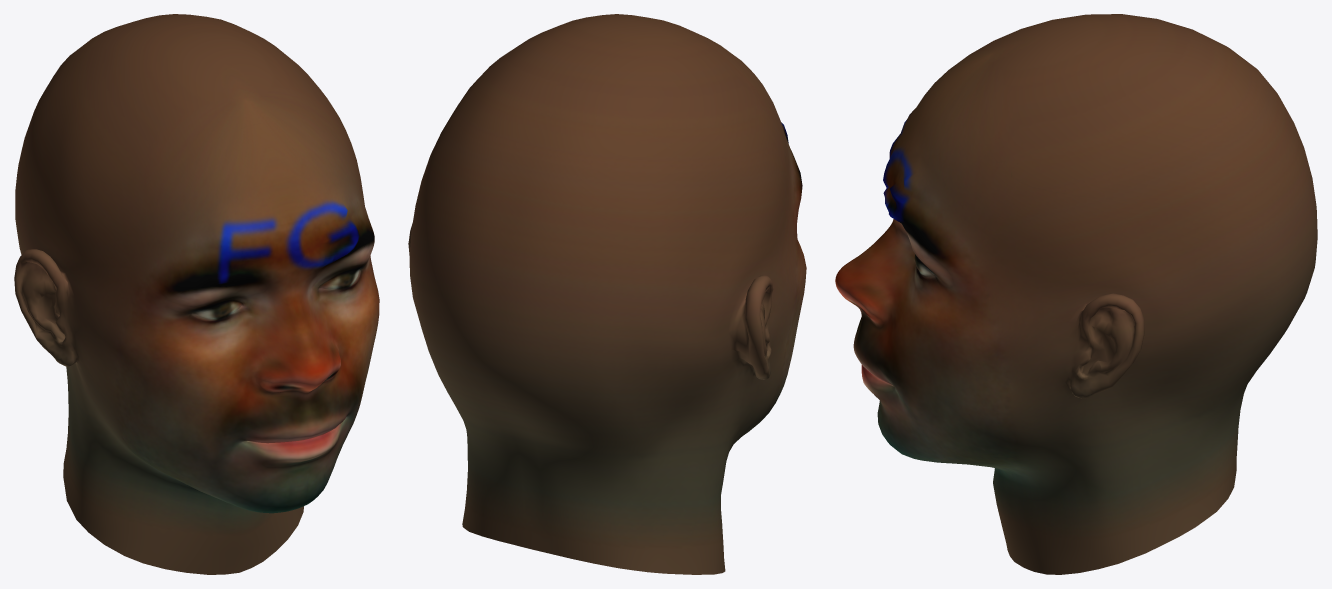
The model's file is avg_anyrace_male_16.obj.
The picture shows the model from 3 angles, left to right: view 1: azimuth 30°, elevation 25°; view 2: azimuth 150°, elevation 25°; view 3: azimuth 270°, elevation 25°; orthographic projection. The views are drawn at different scales.
Visible parts, largest first — view 1: HeadHires; view 2: HeadHires; view 3: HeadHires.
Part boxes in pixels (bbox=[...]): HeadHires: bbox=[14, 14, 379, 574]; HeadHires: bbox=[408, 14, 806, 574]; HeadHires: bbox=[835, 14, 1317, 574].
Size of the model in its own units: 190 by 283 by 237.
Materials: 3 (3 with a texture image).
